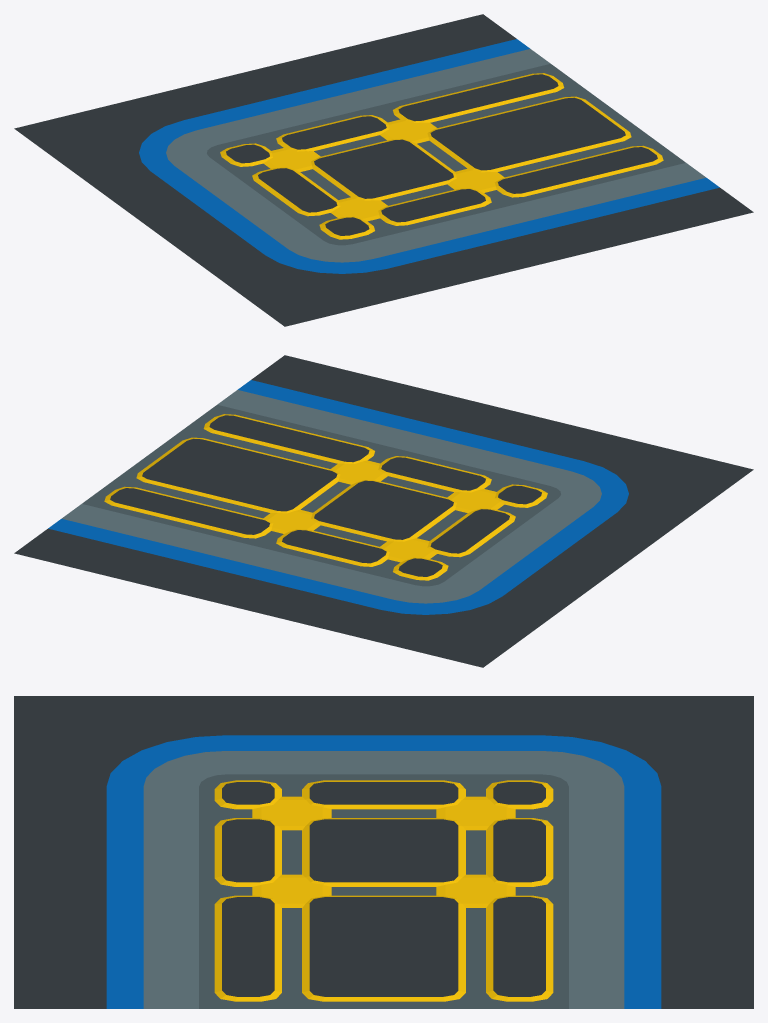
File: Floor_type_C_018.fbx
3 views of the same model, one above another, from view 1: azimuth 30°, elevation 25°; view 2: azimuth 150°, elevation 25°; view 3: azimuth 270°, elevation 25° (orthographic). The views are drawn at different scales.
Visible parts, largest first — view 1: Floor_type_C_018; view 2: Floor_type_C_018; view 3: Floor_type_C_018.
Boxes of the visible parts, x1,y1,x2,y2 form: Floor_type_C_018: [14, 14, 753, 326]; Floor_type_C_018: [14, 355, 753, 667]; Floor_type_C_018: [14, 696, 753, 1008].
Bounding box in the file's own units: 400 × 400 × 1.34.
